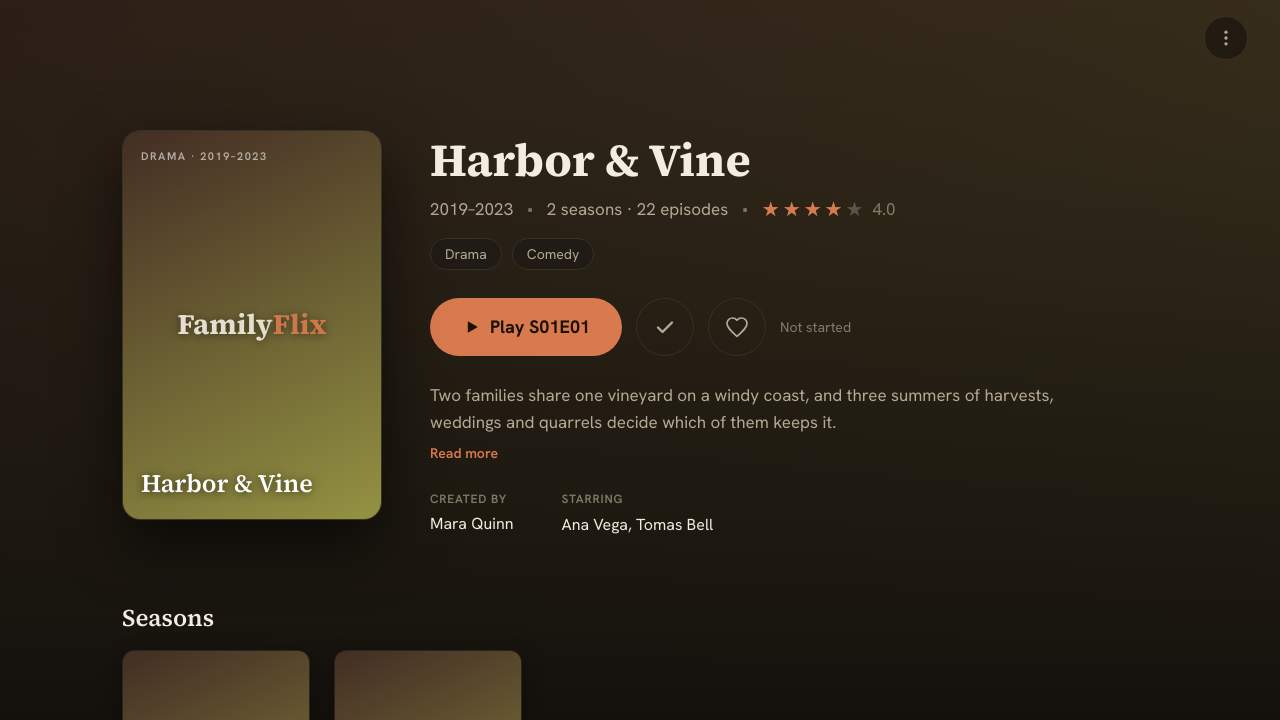
Test case: SeriesDetail — the watched circle › marks the whole series the moment it is pressed, and saves it
Click the button named "Mark as watched": (665, 327) [636,298,694,356]
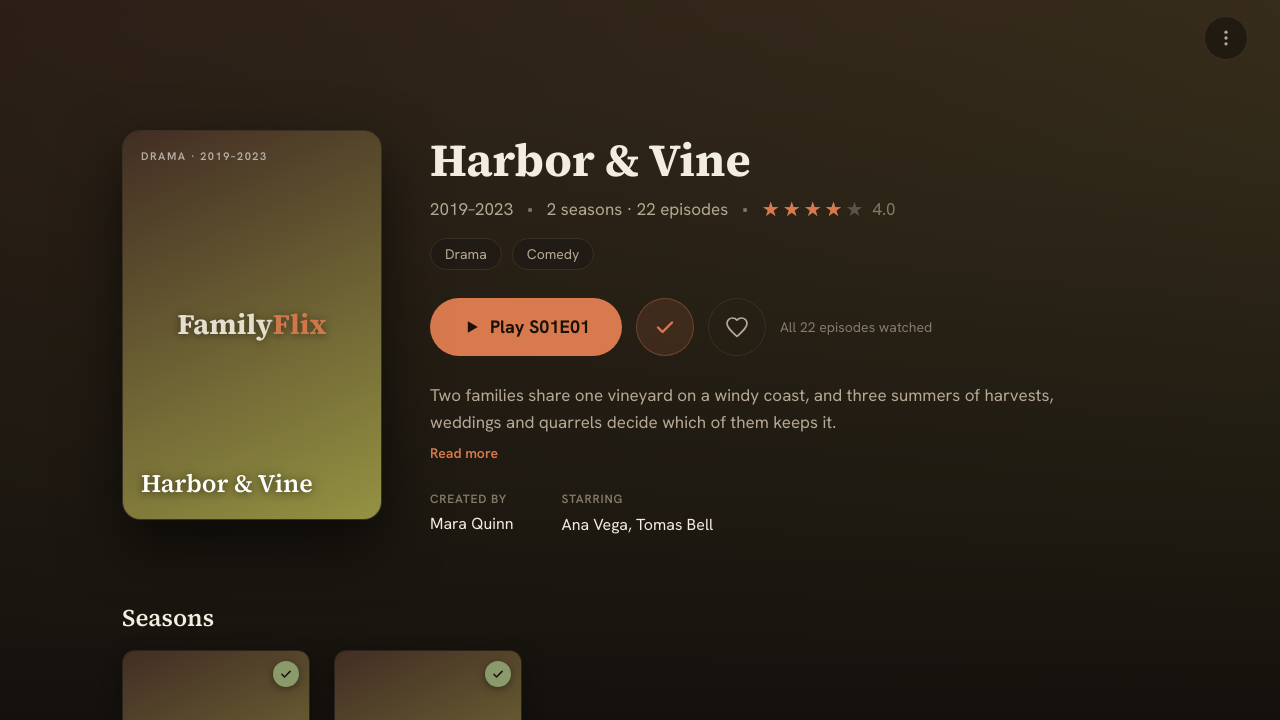
Expected: the button named "Watched, click to unmark" is shown, [636,298,694,356]
Expected: the text "All 22 episodes watched" is shown, [780,318,932,336]
